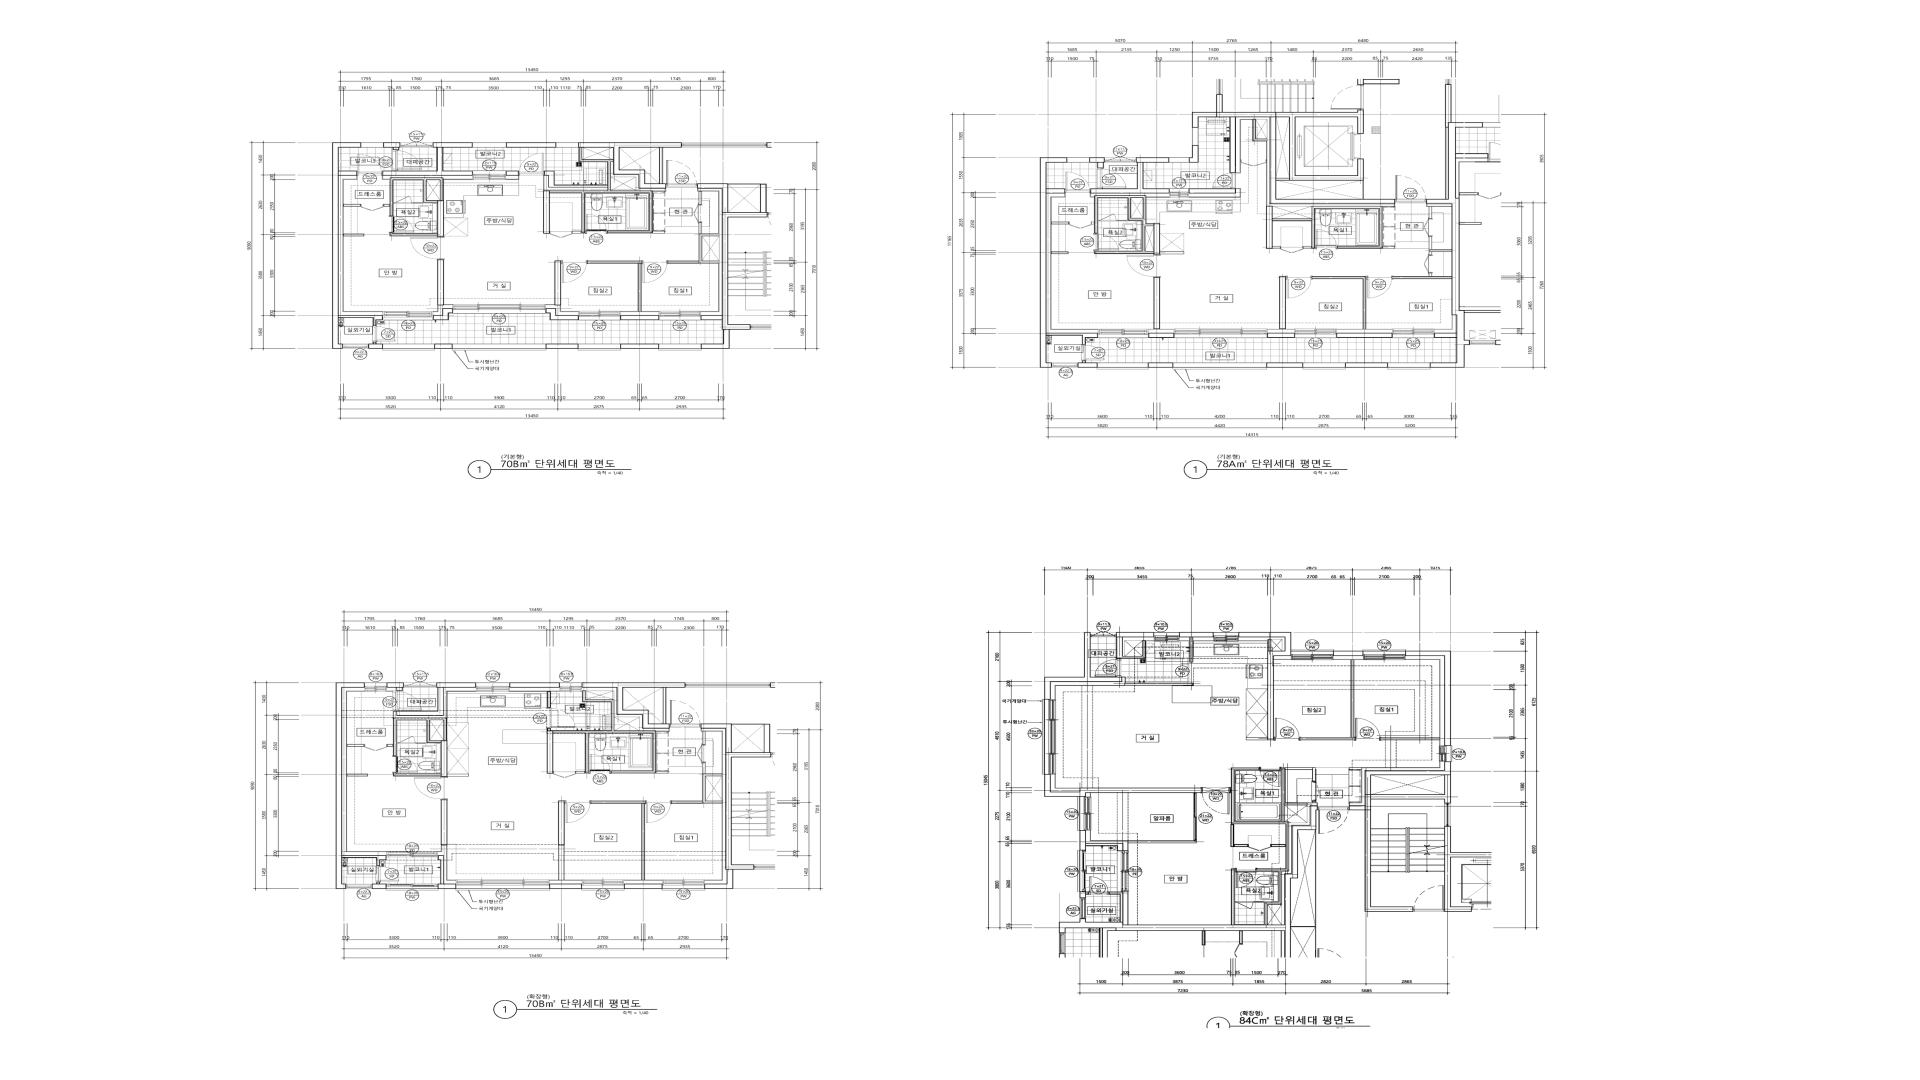door: (1317, 806, 1349, 833), (666, 160, 698, 187), (1201, 787, 1232, 815), (669, 700, 700, 727), (1395, 175, 1427, 202), (1331, 84, 1364, 109), (410, 236, 444, 260), (1414, 886, 1444, 913), (1127, 255, 1160, 277), (393, 150, 422, 171), (1354, 717, 1381, 740), (1274, 717, 1300, 740), (645, 800, 671, 823), (564, 800, 591, 823), (518, 153, 545, 175), (1286, 276, 1312, 298), (1064, 171, 1091, 194), (1097, 169, 1126, 189), (642, 261, 667, 284), (560, 261, 587, 282), (1366, 277, 1393, 298), (393, 691, 421, 711), (547, 708, 575, 728), (357, 154, 382, 175), (1095, 659, 1121, 676), (1259, 767, 1282, 787), (585, 214, 608, 233), (1315, 229, 1337, 249), (1095, 233, 1118, 252), (1234, 869, 1257, 887), (588, 754, 611, 773), (393, 756, 417, 773), (390, 216, 414, 233), (1088, 877, 1109, 895), (373, 326, 396, 342), (1213, 173, 1236, 189), (1083, 344, 1105, 360), (377, 866, 398, 882), (1193, 793, 1197, 840), (1312, 781, 1320, 803), (1241, 160, 1267, 166), (553, 771, 576, 778), (360, 204, 384, 211), (1249, 844, 1271, 851), (550, 231, 572, 237), (1280, 247, 1303, 253), (1069, 222, 1092, 228), (1234, 902, 1253, 910), (397, 736, 415, 744), (694, 204, 702, 223), (1424, 255, 1432, 273), (1098, 214, 1117, 222), (698, 745, 705, 762), (1424, 219, 1432, 236), (1091, 632, 1116, 637), (393, 196, 411, 203), (364, 745, 386, 750)
wall: (1059, 806, 1317, 957), (1393, 84, 1465, 368), (1192, 109, 1395, 204), (1349, 762, 1451, 913), (1236, 117, 1395, 206), (1232, 767, 1317, 924), (543, 142, 682, 233), (1039, 157, 1098, 368), (700, 724, 771, 889), (698, 183, 767, 349), (335, 683, 386, 889), (332, 142, 382, 349), (547, 691, 657, 774), (342, 687, 386, 856), (1047, 194, 1098, 334), (339, 175, 382, 315), (1238, 632, 1291, 740), (1044, 632, 1125, 699), (1266, 206, 1382, 249), (582, 683, 686, 729), (1300, 659, 1354, 740), (591, 800, 645, 880), (1406, 651, 1451, 746), (1444, 825, 1491, 913), (1095, 195, 1160, 255), (702, 729, 727, 884), (582, 687, 670, 731), (1044, 774, 1201, 796), (393, 717, 447, 777), (390, 178, 444, 236), (698, 189, 721, 315), (382, 142, 472, 175), (1091, 157, 1170, 194), (1312, 277, 1366, 330), (587, 261, 642, 311), (397, 683, 476, 716), (393, 687, 476, 717), (1291, 829, 1316, 927), (611, 162, 666, 191), (1371, 775, 1444, 795), (550, 845, 582, 884), (543, 175, 608, 191), (1116, 632, 1154, 658), (1080, 831, 1129, 851), (438, 845, 455, 884), (1122, 637, 1154, 657), (438, 856, 455, 889), (1189, 189, 1241, 198), (1109, 891, 1124, 922), (702, 236, 719, 261), (1429, 236, 1452, 255), (705, 777, 723, 800), (1232, 824, 1249, 848), (546, 309, 579, 320), (1435, 315, 1457, 332), (1427, 204, 1452, 219), (1279, 276, 1286, 330), (382, 175, 472, 179), (546, 305, 579, 315), (1154, 277, 1160, 330), (1253, 119, 1267, 141), (1179, 632, 1213, 641), (1091, 194, 1170, 198), (438, 260, 444, 306), (440, 799, 447, 845), (430, 720, 443, 742), (558, 800, 564, 845), (554, 261, 560, 306), (426, 181, 440, 200), (1129, 840, 1196, 844), (506, 142, 556, 148), (1189, 189, 1236, 194), (1333, 651, 1364, 659), (433, 309, 452, 320), (1269, 637, 1284, 651), (1336, 330, 1393, 334), (1345, 363, 1387, 368), (1337, 334, 1393, 338), (1358, 79, 1399, 84), (620, 315, 659, 320), (433, 305, 452, 315), (624, 884, 662, 889), (509, 687, 559, 691), (509, 683, 559, 687), (621, 344, 658, 349), (1089, 157, 1105, 169), (1267, 363, 1303, 368), (1125, 683, 1193, 686), (546, 344, 578, 349), (550, 884, 582, 889), (1189, 145, 1199, 162), (620, 311, 659, 315), (1381, 737, 1440, 740), (1077, 360, 1097, 368), (624, 880, 662, 884), (1267, 332, 1295, 338), (1232, 869, 1234, 924), (1149, 332, 1175, 338), (384, 142, 401, 150), (386, 683, 404, 691), (671, 800, 703, 804), (1149, 363, 1172, 368), (368, 342, 382, 349), (1267, 330, 1295, 334), (1149, 330, 1175, 334), (1189, 637, 1193, 662), (434, 344, 452, 349), (663, 687, 666, 724), (372, 882, 386, 889), (659, 148, 662, 183), (1447, 128, 1448, 199), (667, 261, 699, 264), (547, 691, 551, 708), (1160, 252, 1184, 255), (447, 774, 468, 777), (1246, 737, 1267, 740), (505, 171, 518, 175), (505, 175, 518, 179), (728, 183, 761, 185), (1080, 891, 1087, 898), (732, 724, 764, 725), (386, 687, 397, 691), (1276, 178, 1290, 181), (1382, 247, 1395, 249), (1349, 767, 1361, 770), (653, 231, 665, 233), (572, 231, 582, 233), (1303, 247, 1312, 249), (1273, 247, 1280, 249), (384, 204, 390, 207), (386, 744, 393, 746), (1253, 902, 1265, 903), (657, 771, 669, 773), (415, 742, 426, 744), (1117, 220, 1127, 222), (576, 771, 585, 773), (1429, 273, 1432, 277), (1092, 222, 1095, 224), (1087, 891, 1088, 894), (411, 203, 422, 203)
window: (1042, 699, 1056, 774), (455, 880, 550, 890), (452, 305, 546, 314), (1175, 330, 1267, 338), (1172, 363, 1267, 369), (452, 344, 546, 351), (382, 311, 433, 320), (1291, 649, 1335, 659), (1077, 796, 1091, 831), (582, 880, 624, 890), (662, 880, 704, 890), (1364, 649, 1406, 659), (1098, 330, 1149, 338), (579, 311, 620, 320), (659, 311, 700, 320), (1077, 851, 1087, 891), (382, 344, 435, 351), (1097, 363, 1149, 369), (1295, 330, 1337, 338), (1393, 330, 1435, 338), (1121, 851, 1129, 891), (1387, 363, 1431, 369), (658, 344, 702, 351), (578, 344, 621, 351), (1303, 363, 1345, 369), (386, 885, 438, 890), (386, 852, 438, 857), (472, 171, 506, 179), (476, 683, 509, 691), (1154, 632, 1179, 641), (1213, 632, 1238, 641), (400, 141, 433, 148), (1440, 746, 1452, 762), (1170, 189, 1189, 198), (472, 142, 506, 148), (364, 683, 386, 691), (559, 683, 582, 691), (404, 682, 436, 687), (1105, 157, 1135, 162), (1444, 803, 1451, 827), (1080, 898, 1087, 919), (1051, 363, 1077, 368), (343, 344, 368, 349), (556, 142, 579, 148), (361, 142, 384, 148), (1067, 157, 1089, 162), (1192, 128, 1199, 145), (345, 885, 372, 889), (1170, 157, 1189, 162)
